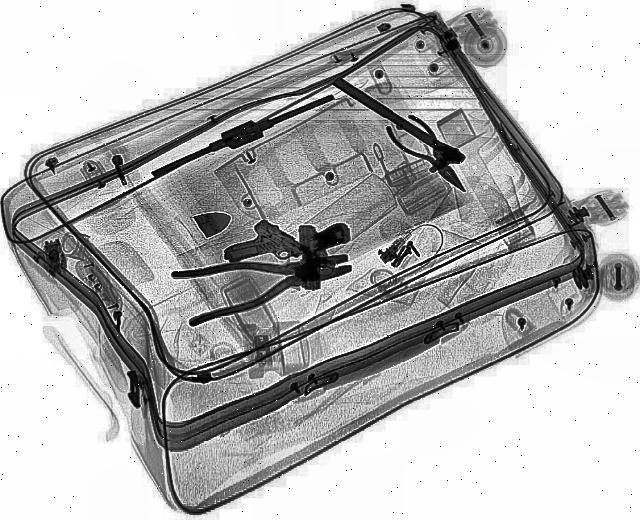Gun: (220, 218, 336, 300), (298, 224, 354, 292)
Pliers: (170, 233, 364, 328), (382, 112, 482, 202)
